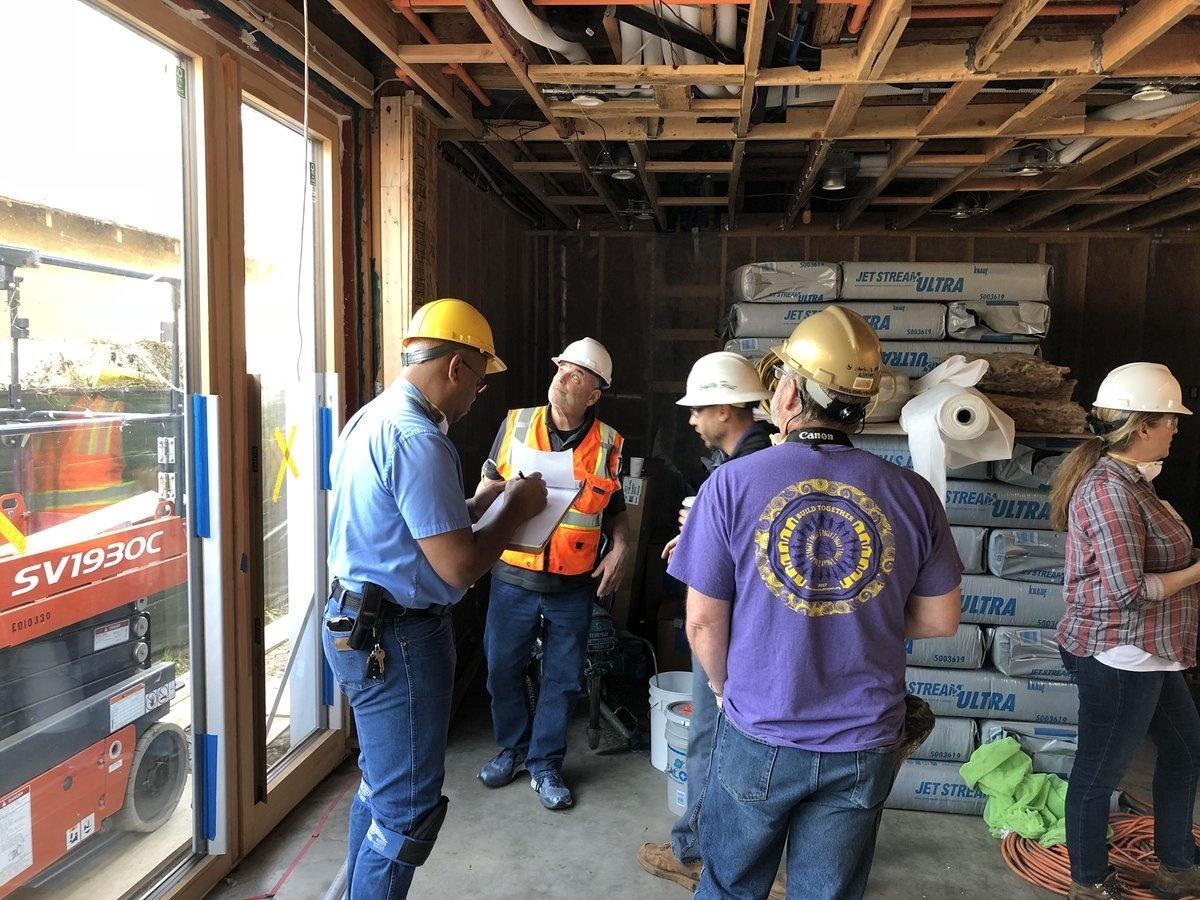Helmet: (399, 295, 507, 416), (1084, 360, 1193, 463)
NoVest: (713, 449, 926, 744), (1062, 470, 1197, 669)
Vest: (498, 408, 620, 569)
